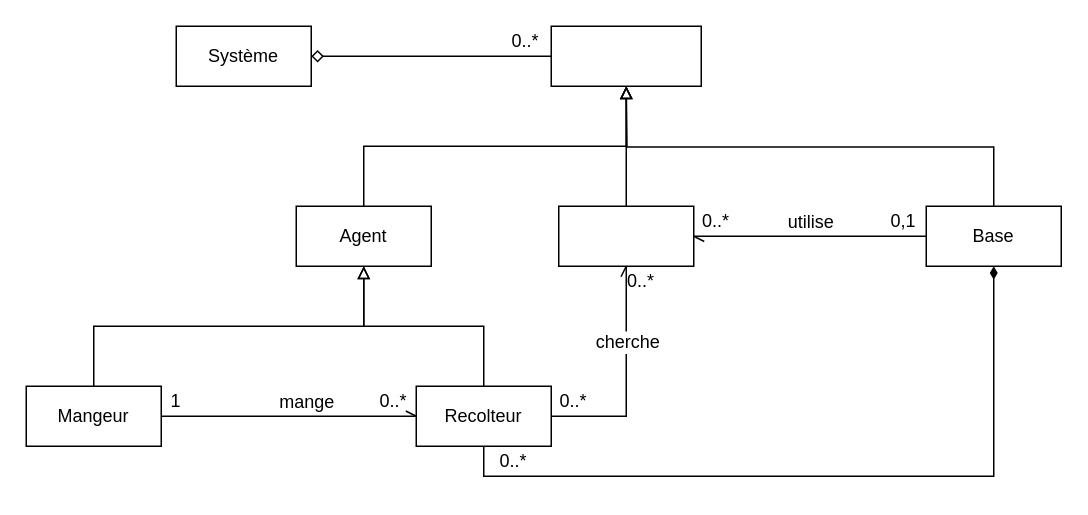
Image size: 1088x515. Some labels were removed from this diagram. The shapes that lost their labels are listed below. From the top down, each one's centre as x and y in pixels, then its label:
(x=625, y=55): Entité
(x=625, y=235): Ressource
